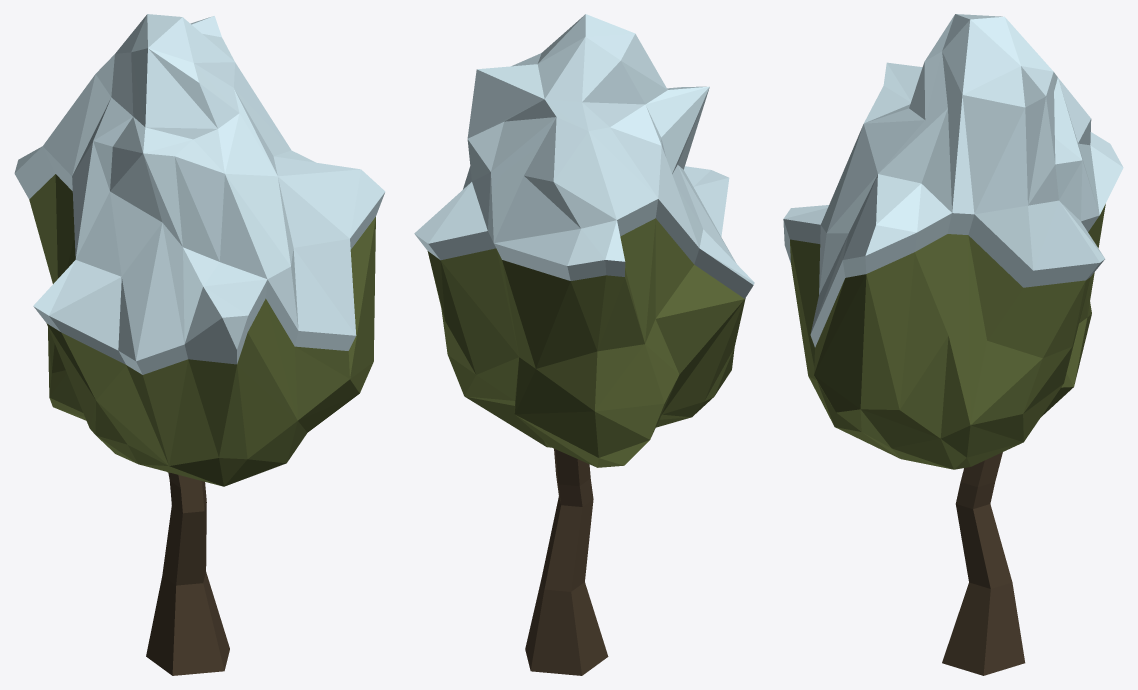
File: SM_Env_Tree_02_Snow.gltf
The picture shows the model from 3 angles, left to right: view 1: azimuth 30°, elevation 25°; view 2: azimuth 150°, elevation 25°; view 3: azimuth 270°, elevation 25°; orthographic projection. The views are drawn at different scales.
Visible parts, largest first — view 1: SM_Env_Tree_02_Snow; view 2: SM_Env_Tree_02_Snow; view 3: SM_Env_Tree_02_Snow.
Boxes of the visible parts, x1,y1,x2,y2 form: SM_Env_Tree_02_Snow: (14,14,385,675); SM_Env_Tree_02_Snow: (414,14,754,675); SM_Env_Tree_02_Snow: (783,14,1123,675).
Bounding box in the file's own units: 3.27 × 6.59 × 3.22.
Materials: 1 (1 with a texture image).
